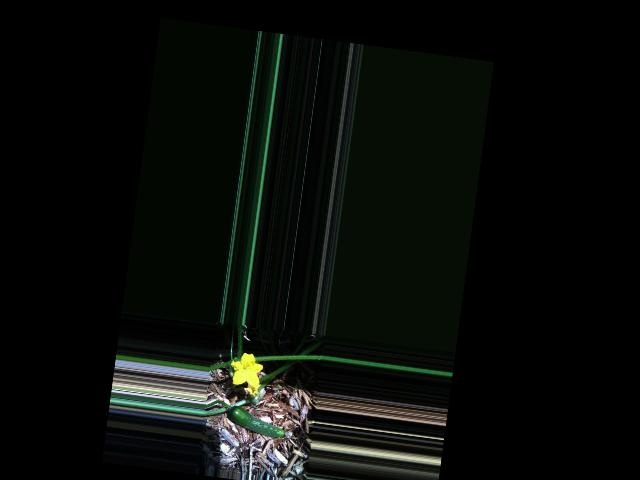cucumber: (225, 404, 293, 440)
